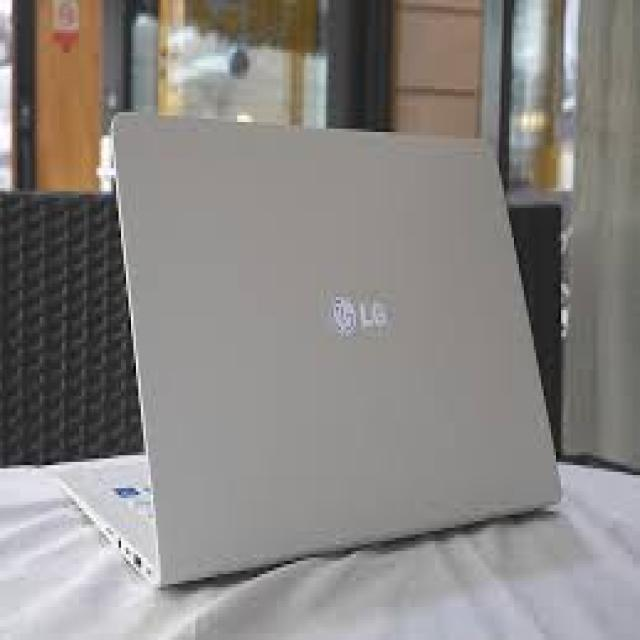laptop: (54, 106, 564, 587)
